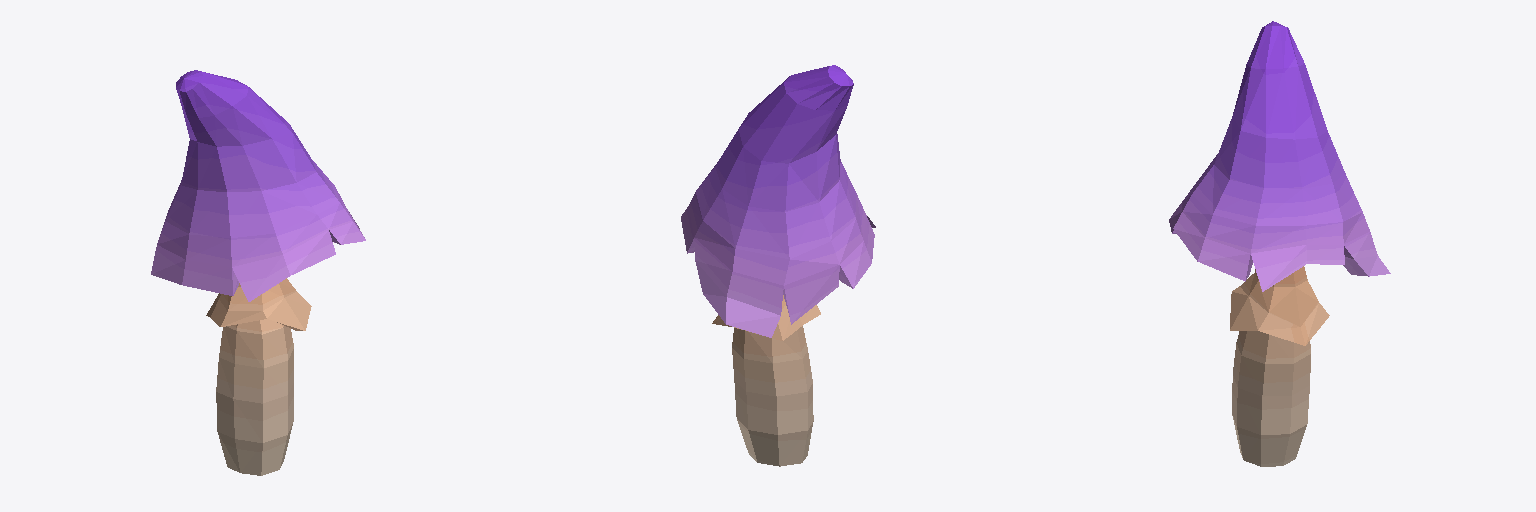
3 views of the same model, side by side, from view 1: azimuth 30°, elevation 25°; view 2: azimuth 150°, elevation 25°; view 3: azimuth 270°, elevation 25° (orthographic).
Parts seen in each view (by area): view 1: Mushroom_01; view 2: Mushroom_01; view 3: Mushroom_01.
Boxes of the visible parts, x1=… form: Mushroom_01: x1=151, y1=70, x2=365, y2=475; Mushroom_01: x1=681, y1=65, x2=875, y2=466; Mushroom_01: x1=1169, y1=21, x2=1390, y2=466.
Size of the model in its own units: 0.2908 by 0.5875 by 0.2934.
1 materials, 1 textured.